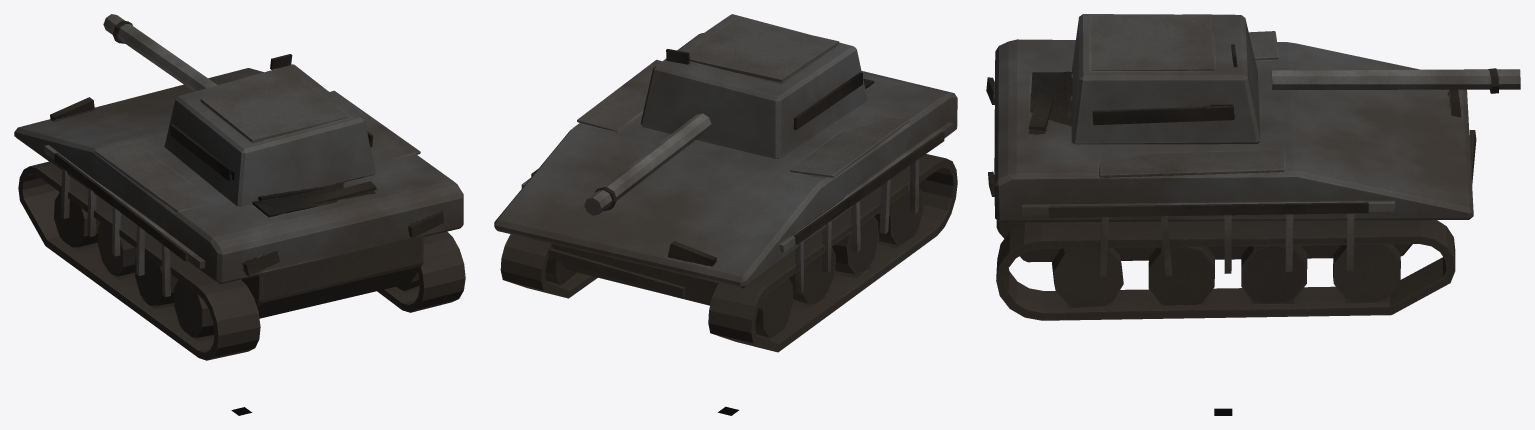
The model's file is chs_locust_wreck.fbx.
The picture shows the model from 3 angles, left to right: view 1: azimuth 30°, elevation 25°; view 2: azimuth 150°, elevation 25°; view 3: azimuth 270°, elevation 25°; orthographic projection. The views are drawn at different scales.
Visible parts, largest first — view 1: base_bar, turret_bar, trackL_bar, trackR_bar, barrel_bar; view 2: base_bar, turret_bar, trackL_bar, trackR_bar, barrel_bar; view 3: base_bar, trackR_bar, turret_bar, barrel_bar.
Boxes of the visible parts, x1,y1,x2,y2 form: base_bar: (14,68,463,318); turret_bar: (164,54,375,206); trackL_bar: (18,161,260,360); trackR_bar: (377,231,465,312); barrel_bar: (103,14,217,91); base_bar: (494,33,957,305); turret_bar: (640,14,867,158); trackL_bar: (708,154,957,352); trackR_bar: (500,234,597,298); barrel_bar: (584,113,711,215); base_bar: (986,31,1476,277); trackR_bar: (996,220,1455,320); turret_bar: (1071,14,1260,144); barrel_bar: (1271,68,1520,93).
Size of the model in its own units: 391 by 482 by 603.
2 materials, 2 textured.
